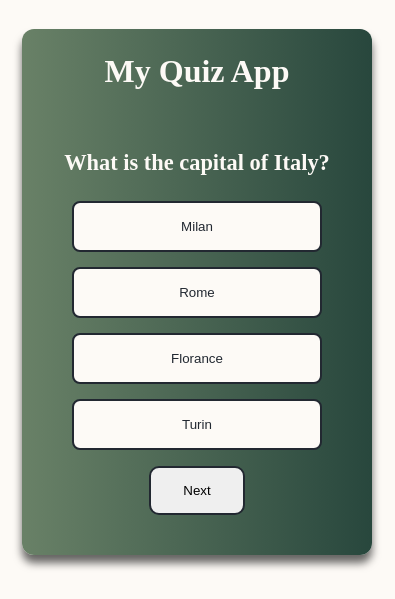
QuestionCard › Shows the first question initially and goes to the next queston after clicking on next button
The width and height of the screenshot is (395, 599).
Check: the heading "What is the capital of Italy?" is shown, box [64,150,330,176]
Step 1. Click the button "Next" → (197, 490), box [149,466,245,515]
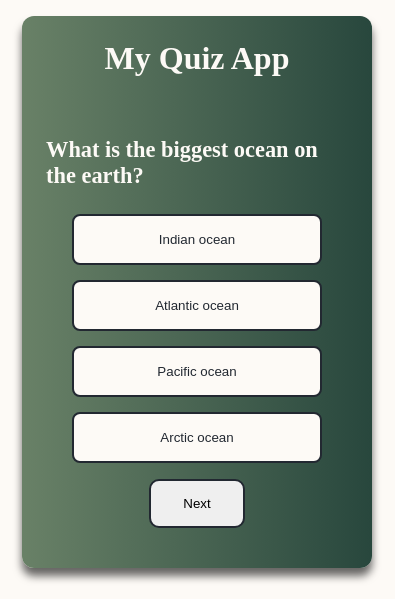
Check: the heading "What is the biggest ocean on the earth?" is shown, box [46,137,348,189]
